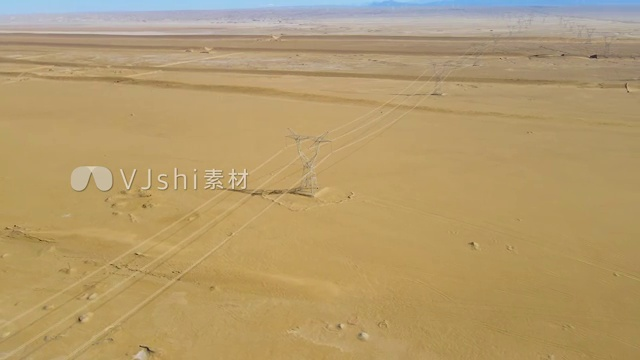tower_body: (281, 124, 343, 203)
tower_foot: (298, 173, 323, 198)
tower_head: (284, 127, 337, 167)
